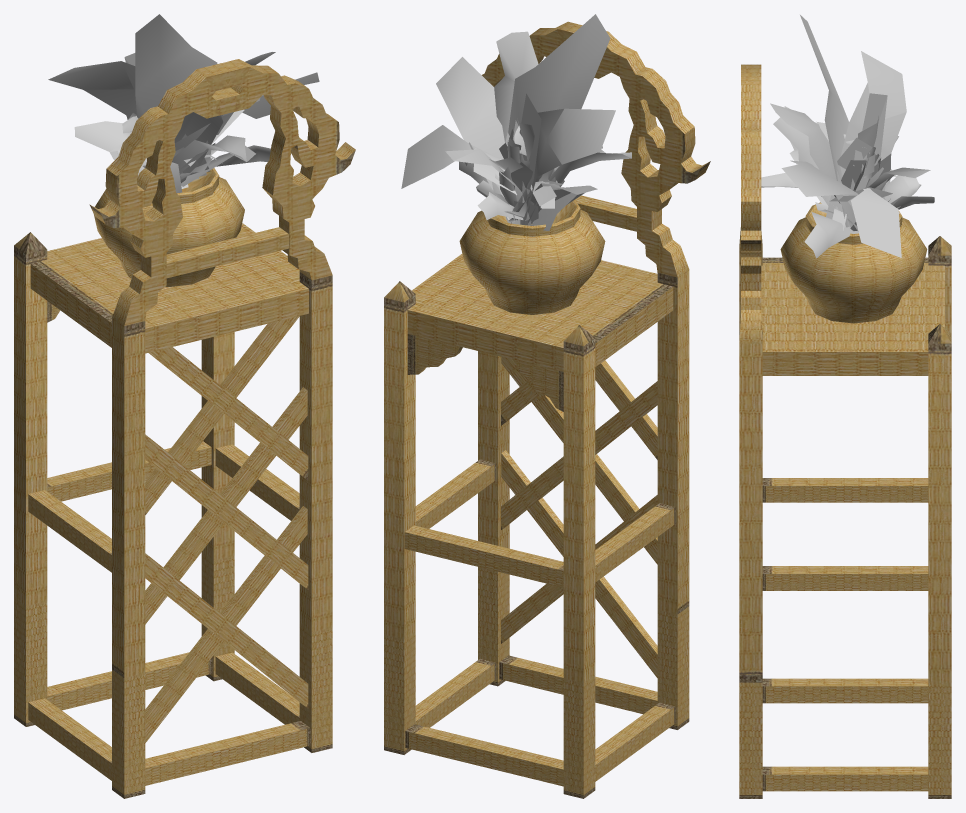
The model's file is wujian_yunmeng_09.FBX.
3 views of the same model, side by side, from view 1: azimuth 30°, elevation 25°; view 2: azimuth 150°, elevation 25°; view 3: azimuth 270°, elevation 25° (orthographic). The views are drawn at different scales.
Visible parts, largest first — view 1: Mesh_0116, Mesh_0117, Mesh_163; view 2: Mesh_0116, Mesh_0117, Mesh_163; view 3: Mesh_0116, Mesh_0117, Mesh_163.
Part boxes in pixels (x1,y1,x2,y2): Mesh_0116: (14,59,355,798); Mesh_0117: (48,14,319,193); Mesh_163: (51,18,317,192); Mesh_0116: (384,21,710,798); Mesh_0117: (401,14,631,230); Mesh_163: (403,14,630,230); Mesh_0116: (739,64,951,798); Mesh_0117: (761,15,934,258); Mesh_163: (761,17,934,257).
Bounding box in the file's own units: 98.97 × 276 × 73.84.
